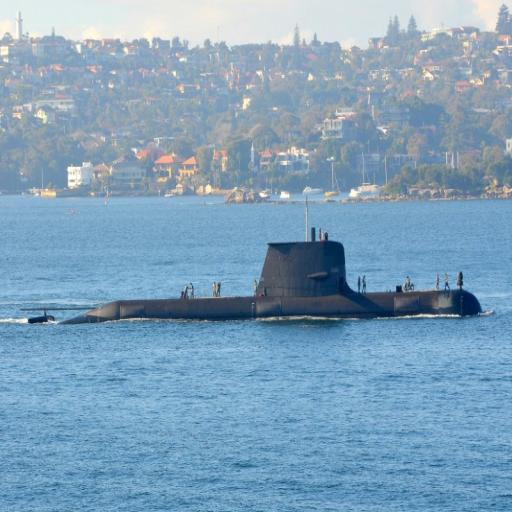submarine: (28, 240, 486, 325)
